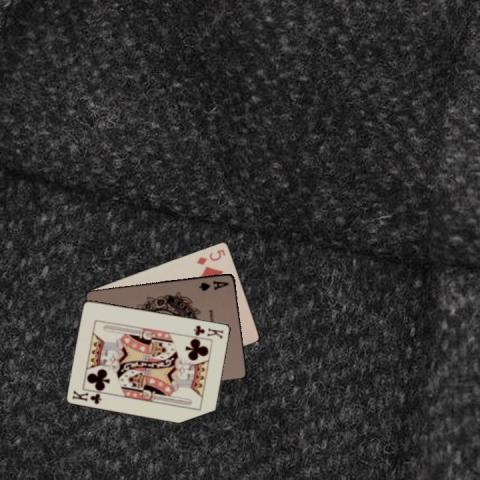5d: (193, 246, 227, 266)
As: (196, 277, 231, 292)
Kc: (70, 388, 104, 406), (191, 322, 224, 340)
